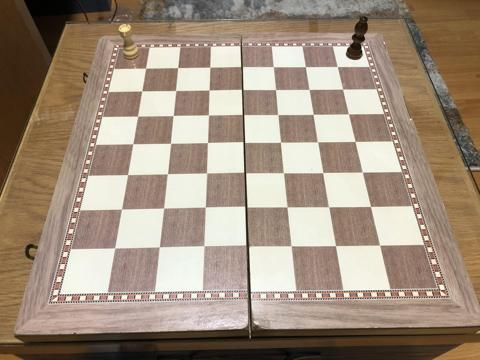xcorner: (334, 61, 346, 73), (302, 61, 314, 73), (269, 61, 281, 73), (237, 62, 249, 74), (172, 62, 184, 74), (139, 62, 151, 74), (339, 84, 351, 96), (272, 84, 284, 96), (204, 85, 216, 97), (135, 85, 147, 97), (345, 109, 357, 121), (310, 109, 322, 121), (274, 109, 286, 121), (239, 110, 251, 122), (203, 110, 215, 122), (167, 110, 179, 122), (131, 111, 143, 123), (351, 136, 363, 148), (277, 137, 289, 149), (202, 138, 214, 150), (164, 138, 176, 150), (319, 167, 331, 179), (241, 168, 253, 180), (161, 169, 173, 181), (325, 201, 337, 213), (242, 202, 254, 214), (200, 203, 212, 215), (331, 239, 343, 251), (287, 240, 299, 252), (243, 241, 255, 253), (154, 242, 166, 254), (109, 243, 121, 255), (205, 62, 216, 74), (306, 84, 317, 96), (238, 85, 250, 96), (170, 85, 181, 97), (314, 137, 326, 148), (240, 137, 251, 149), (126, 139, 138, 150), (280, 168, 292, 179), (201, 169, 213, 180), (121, 170, 133, 181), (366, 201, 378, 212), (284, 202, 295, 214), (158, 204, 170, 215), (116, 204, 127, 216), (375, 239, 387, 250), (199, 242, 211, 253), (359, 167, 370, 178)
